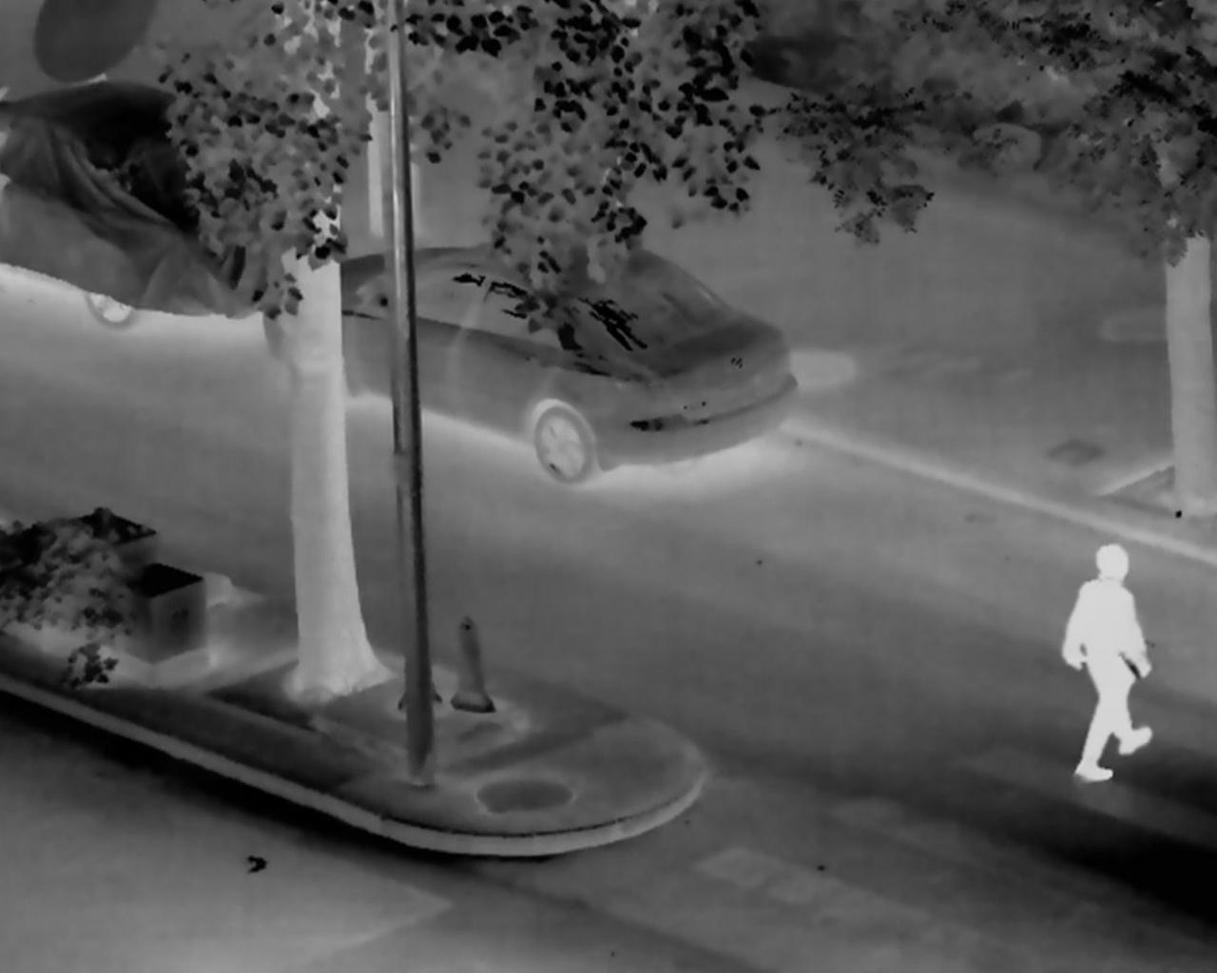person: (1058, 544, 1153, 781)
